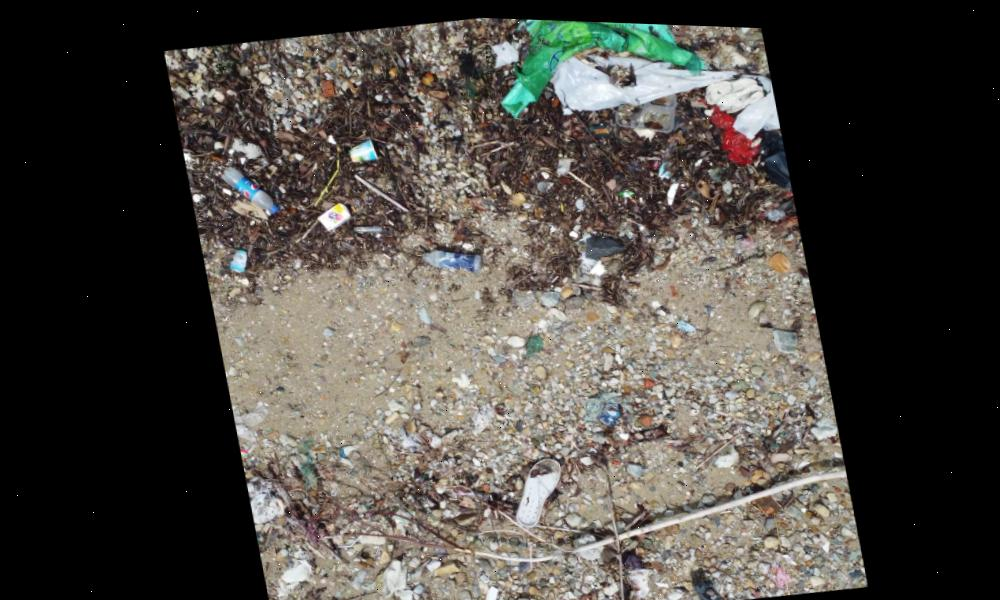carton: (312, 195, 360, 230), (212, 243, 259, 275), (336, 131, 378, 165)
plastic bag: (477, 14, 696, 125), (546, 22, 744, 118), (710, 69, 780, 136)
plastic bottle: (215, 151, 282, 222), (413, 236, 487, 277)
